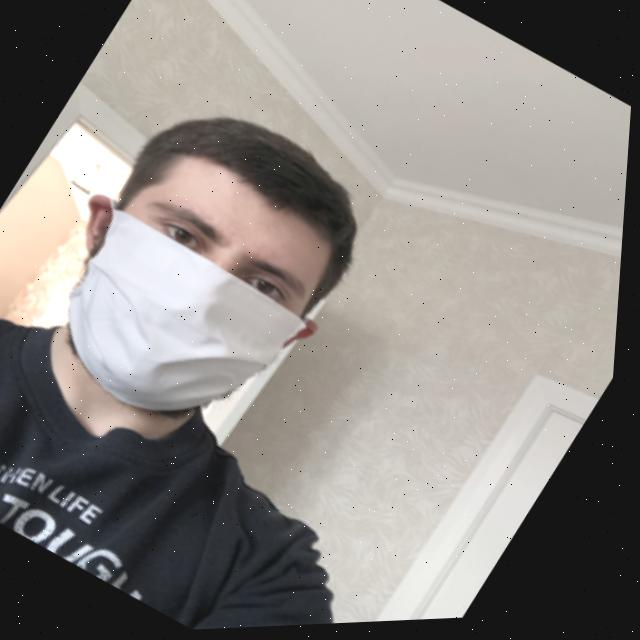Mask: (19, 192, 331, 466)
